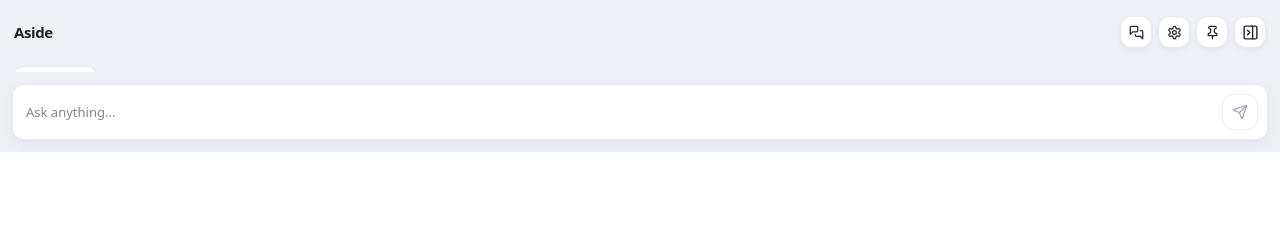
Test case: honors hidden state after a restore failure and keeps the error for reopening
What coordinates should you click on to do the following:
click the button named "Hide Aside"
I would click on:
 (1250, 32)
Its box is [1234, 16, 1266, 48].
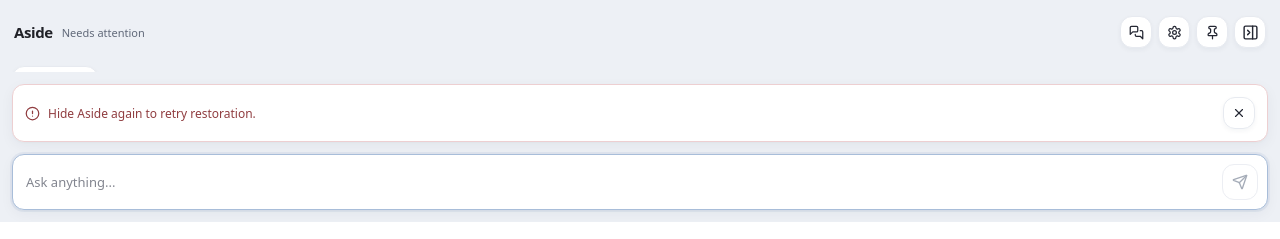
Check: the text "Hide Aside again to retry restoration." is shown, box [48, 104, 256, 122]
